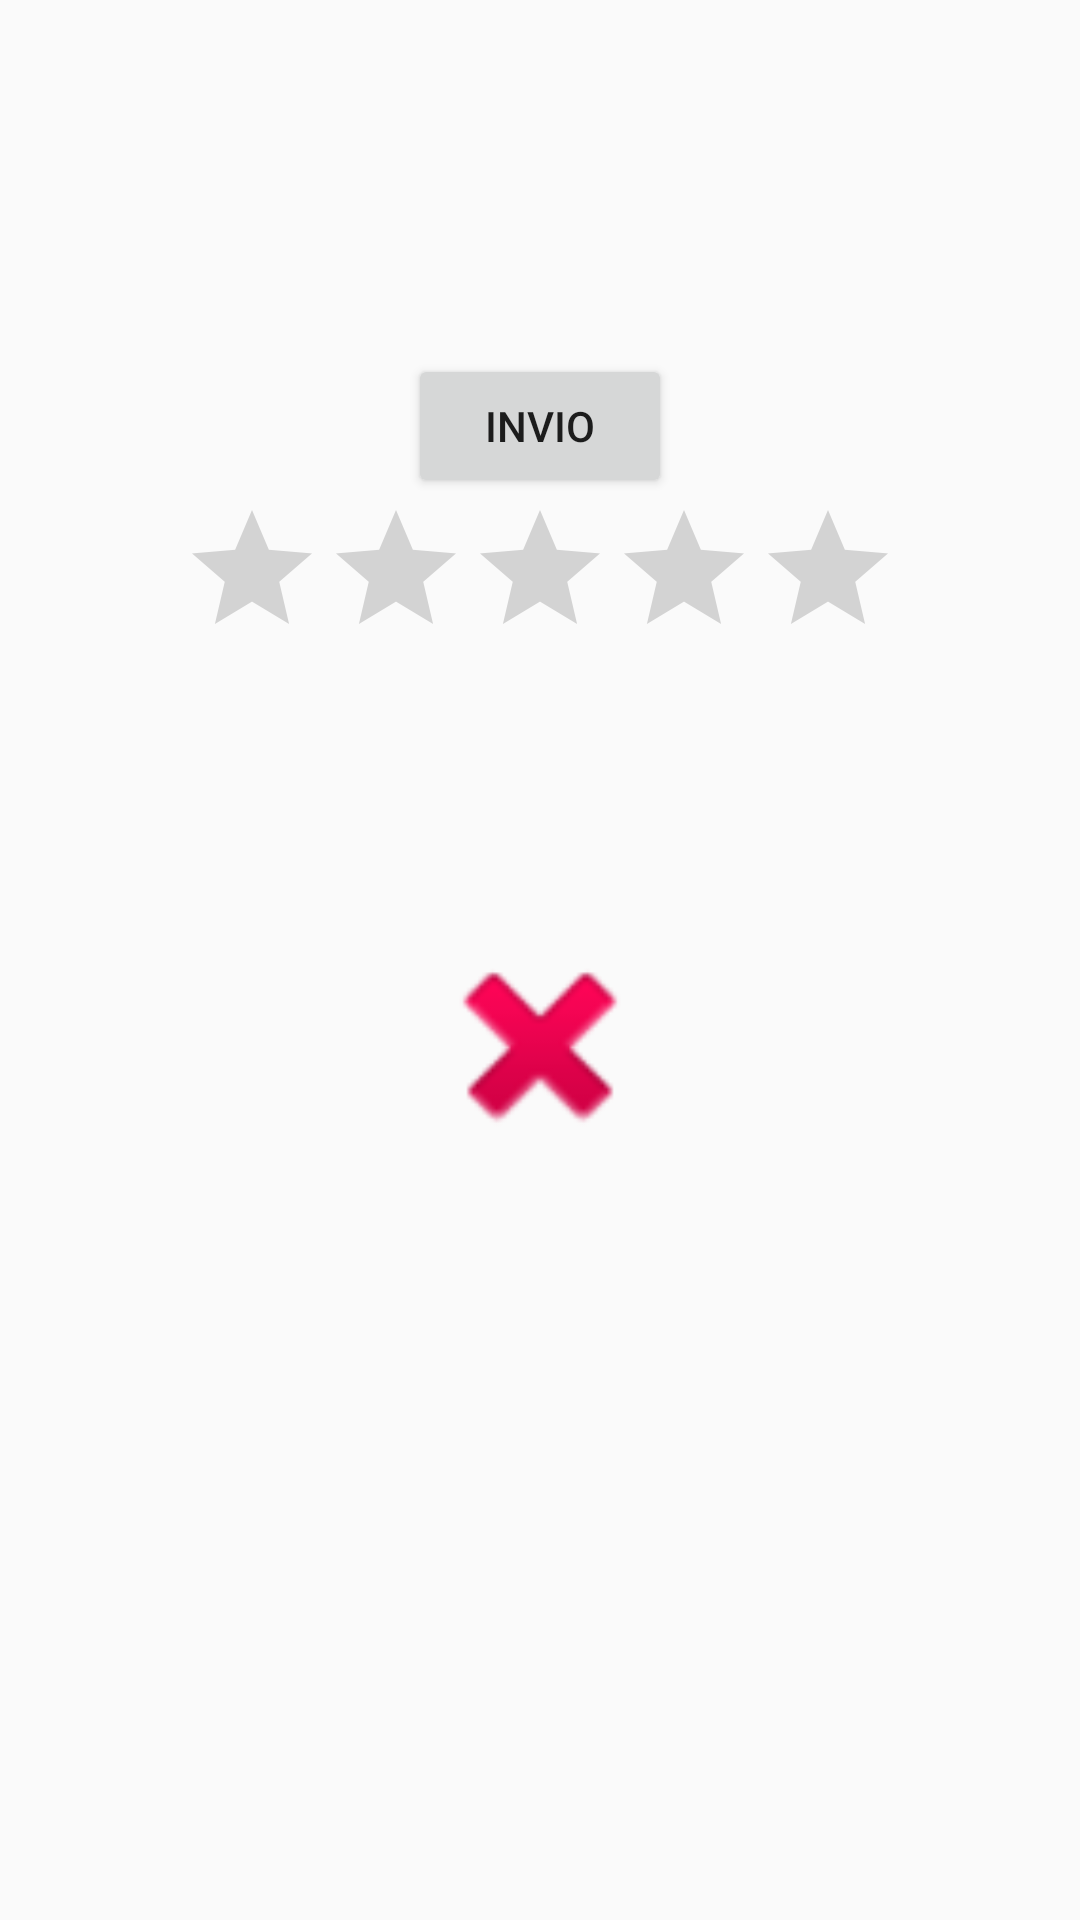

Screen size 1080 x 1920. Icon name, then its box in pixels as [left=x1, top=y1, right=x2, bottom=y2]:
delete: [left=463, top=972, right=617, bottom=1121]
